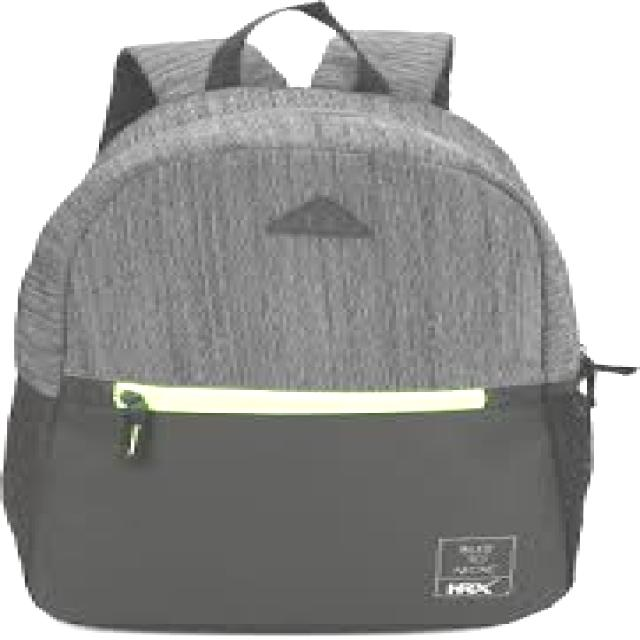backpack: (1, 1, 637, 634)
